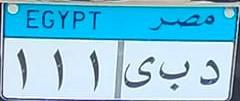1: (42, 36, 73, 90), (77, 42, 108, 87), (15, 42, 36, 93)
ب: (159, 54, 189, 93)
د: (191, 59, 220, 92)
ي: (124, 54, 154, 94)
